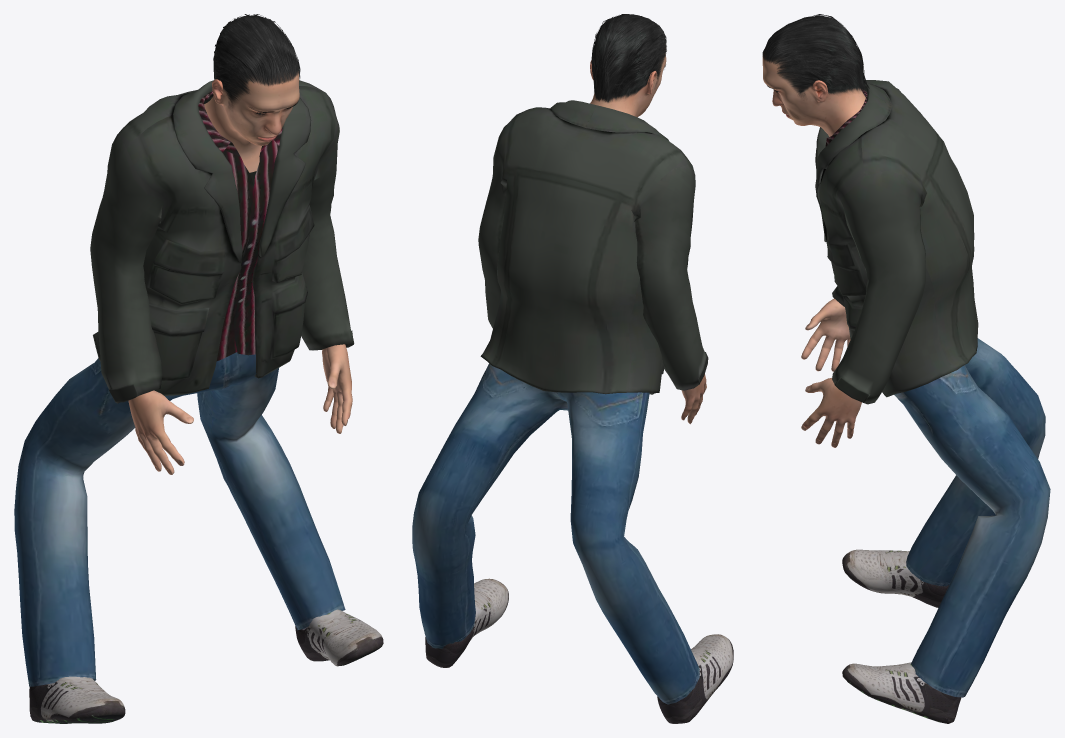
File: uomo-03.glb
3 renders of one model, left to right at view 1: azimuth 30°, elevation 25°; view 2: azimuth 150°, elevation 25°; view 3: azimuth 270°, elevation 25°, orthographic. The views are drawn at different scales.
Visible parts, largest first — view 1: Human.male_casualsuit05, Human, Human.shoes05, Human.short04; view 2: Human.male_casualsuit05, Human.short04, Human.shoes05, Human; view 3: Human.male_casualsuit05, Human, Human.shoes05, Human.short04.
Part boxes in pixels (x1,y1,x2,y2): Human.male_casualsuit05: [14, 80, 354, 686]; Human: [128, 71, 352, 474]; Human.shoes05: [29, 609, 383, 723]; Human.short04: [213, 14, 300, 107]; Human.male_casualsuit05: [412, 100, 708, 704]; Human.short04: [591, 14, 666, 102]; Human.shoes05: [425, 578, 733, 723]; Human: [590, 53, 706, 424]; Human.male_casualsuit05: [815, 80, 1050, 697]; Human: [762, 55, 865, 447]; Human.shoes05: [842, 549, 961, 723]; Human.short04: [762, 14, 869, 97].
Size of the model in its own units: 0.7099 by 1.55 by 0.6266.
Materials: 12 (12 with a texture image).
